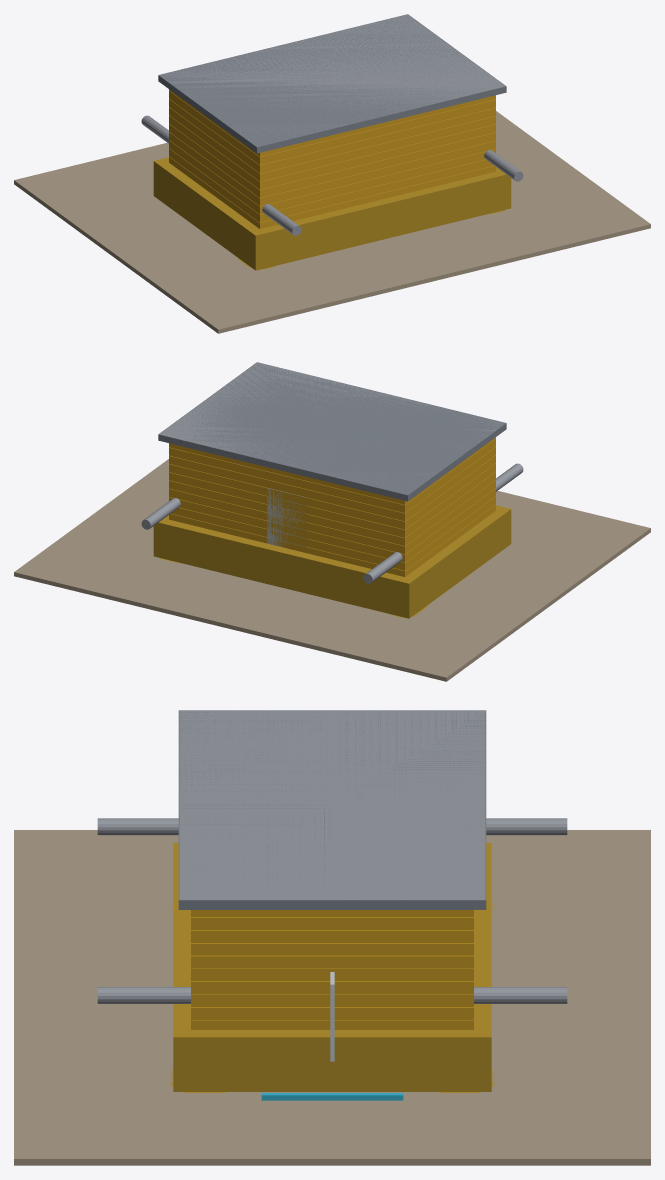
Rendered from stage_08_bands.glb.
3 renders of one model, top to bottom at view 1: azimuth 30°, elevation 25°; view 2: azimuth 150°, elevation 25°; view 3: azimuth 270°, elevation 25°, orthographic. The views are drawn at different scales.
Parts seen in each view (by area): view 1: world; view 2: world; view 3: world.
Part boxes in pixels (<box>): world: <box>14,14,650,333</box>; world: <box>14,362,650,681</box>; world: <box>14,710,650,1165</box>.
Bounding box in the file's own units: 11 × 3.75 × 9.
